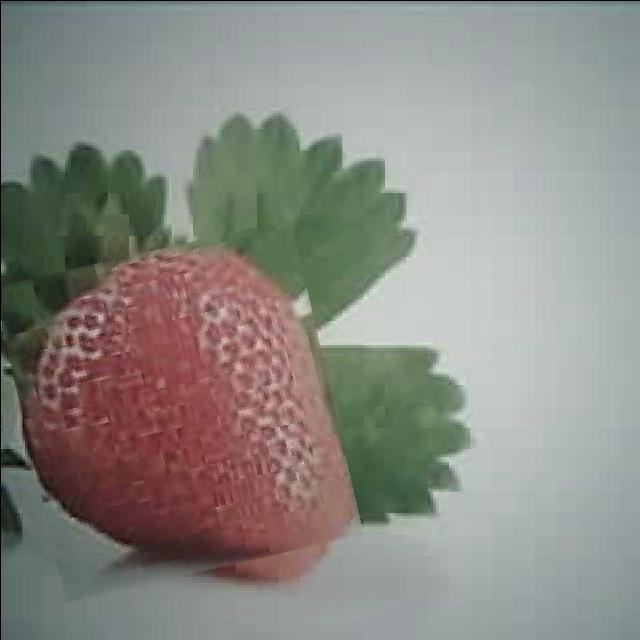strawberry: (8, 233, 346, 588)
